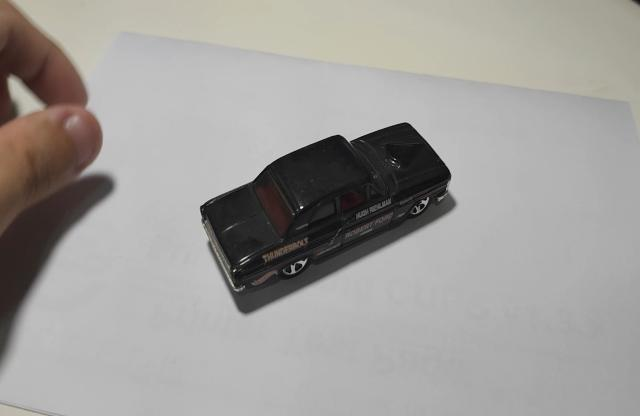01_FORD: (200, 123, 452, 316)
